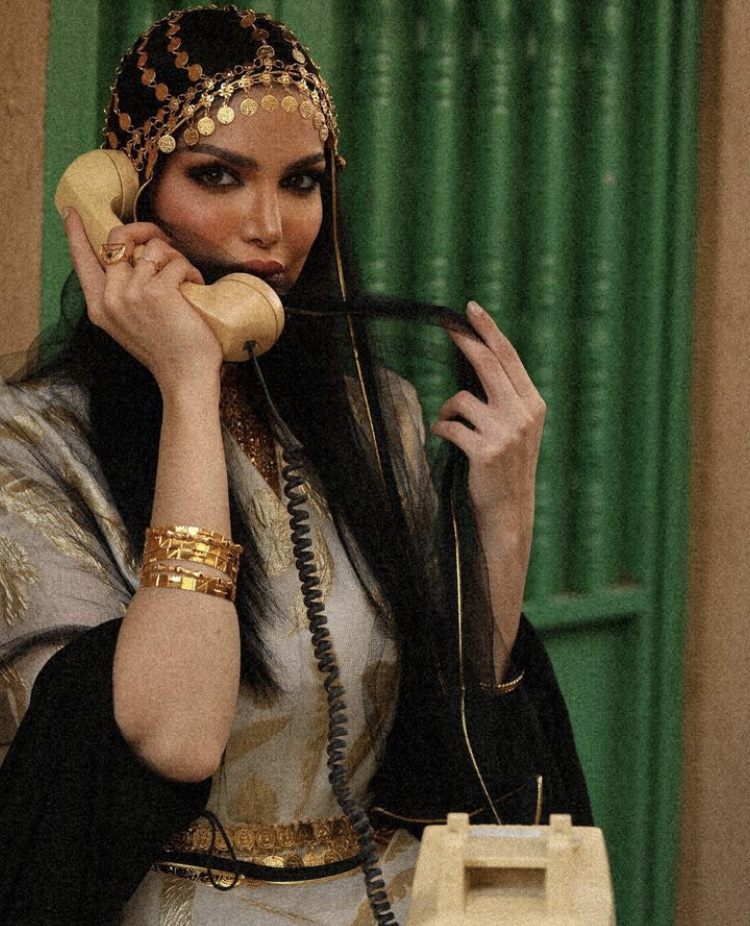Saudi_Founding_Day: (1, 4, 598, 926)
